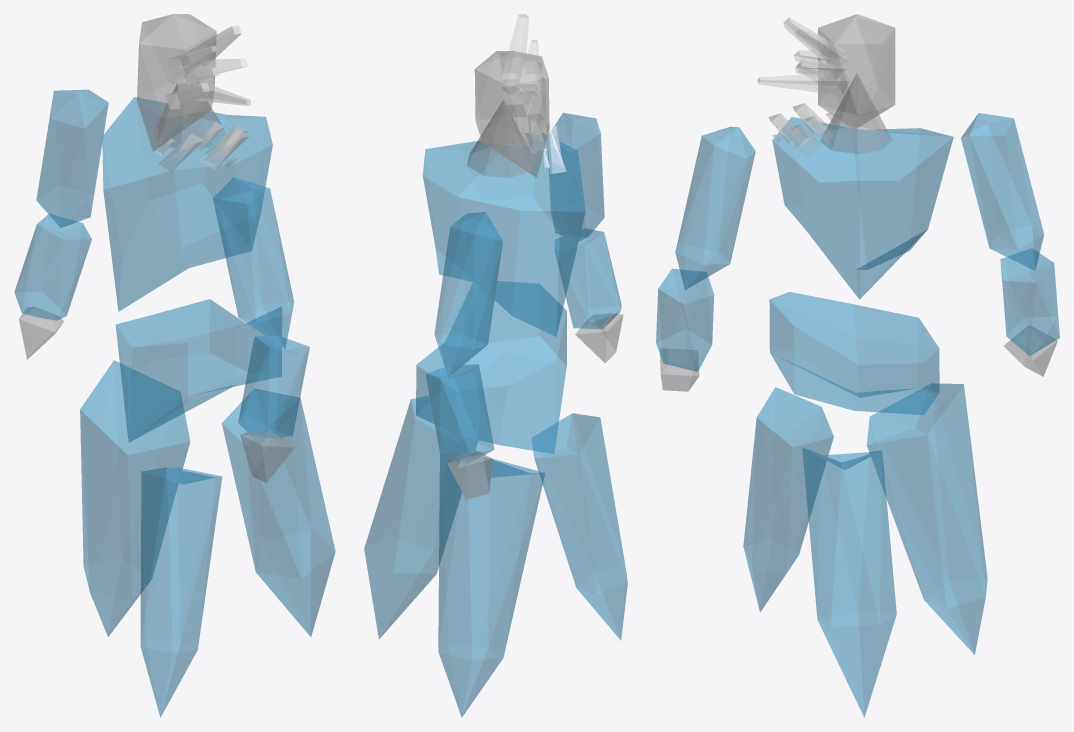
File: ghostIdle8.obj
3 renders of one model, left to right at view 1: azimuth 30°, elevation 25°; view 2: azimuth 150°, elevation 25°; view 3: azimuth 270°, elevation 25°, orthographic. The views are drawn at different scales.
Visible parts, largest first — view 1: Cube.001_Cube.001, Icosphere.005, Icosphere.004, Cube_Cube.002, Icosphere.003, Icosphere.005_Icosphere.001, Icosphere.003_Icosphere.001, Icosphere.007_Icosphere.001, Icosphere.006_Icosphere.001, Icosphere.008_Icosphere.001, Cone_Cone.002, Cube.002_Cube.001 (+8 smaller); view 2: Cube.001_Cube.001, Cube_Cube.002, Icosphere.005, Icosphere.004, Icosphere.003, Icosphere.007_Icosphere.001, Icosphere.003_Icosphere.001, Icosphere.005_Icosphere.001, Icosphere.008_Icosphere.001, Icosphere.006_Icosphere.001, Cone_Cone.002, Cube.003_Cube.001 (+5 smaller); view 3: Cube.001_Cube.001, Icosphere.005, Icosphere.004, Cube_Cube.002, Icosphere.003, Icosphere.005_Icosphere.001, Icosphere.007_Icosphere.001, Icosphere.003_Icosphere.001, Icosphere.006_Icosphere.001, Icosphere.008_Icosphere.001, Cone_Cone.002, Cube.003_Cube.001 (+4 smaller).
Boxes of the visible parts, box(x1,y1,x2,y2) form: Cube.001_Cube.001: box(102, 97, 272, 311); Icosphere.005: box(80, 360, 190, 636); Icosphere.004: box(222, 388, 335, 636); Cube_Cube.002: box(115, 299, 281, 442); Icosphere.003: box(140, 467, 221, 717); Icosphere.005_Icosphere.001: box(213, 177, 293, 348); Icosphere.003_Icosphere.001: box(137, 14, 216, 151); Icosphere.007_Icosphere.001: box(36, 89, 108, 227); Icosphere.006_Icosphere.001: box(238, 336, 309, 440); Icosphere.008_Icosphere.001: box(14, 214, 91, 320); Cone_Cone.002: box(153, 84, 225, 148); Cube.002_Cube.001: box(240, 431, 294, 483); Cube.001_Cube.001: box(422, 133, 585, 336); Cube_Cube.002: box(416, 281, 566, 453); Icosphere.005: box(438, 451, 545, 717); Icosphere.004: box(364, 396, 478, 638); Icosphere.003: box(531, 413, 627, 640); Icosphere.007_Icosphere.001: box(434, 212, 502, 376); Icosphere.003_Icosphere.001: box(474, 51, 549, 177); Icosphere.005_Icosphere.001: box(547, 112, 604, 241); Icosphere.008_Icosphere.001: box(425, 364, 494, 465); Icosphere.006_Icosphere.001: box(555, 228, 621, 328); Cone_Cone.002: box(467, 100, 531, 177); Cube.003_Cube.001: box(447, 451, 492, 499); Cube.001_Cube.001: box(772, 117, 953, 299); Icosphere.005: box(867, 383, 987, 654); Icosphere.004: box(802, 447, 896, 717); Cube_Cube.002: box(769, 292, 939, 414); Icosphere.003: box(743, 387, 833, 612); Icosphere.005_Icosphere.001: box(675, 126, 755, 289); Icosphere.007_Icosphere.001: box(961, 113, 1043, 270); Icosphere.003_Icosphere.001: box(818, 14, 895, 128); Icosphere.006_Icosphere.001: box(656, 268, 713, 371); Icosphere.008_Icosphere.001: box(1000, 248, 1059, 355); Cone_Cone.002: box(820, 73, 891, 153); Cube.003_Cube.001: box(1004, 325, 1057, 376).
Bounding box in the file's own units: 16.9 × 48.19 × 27.09.
